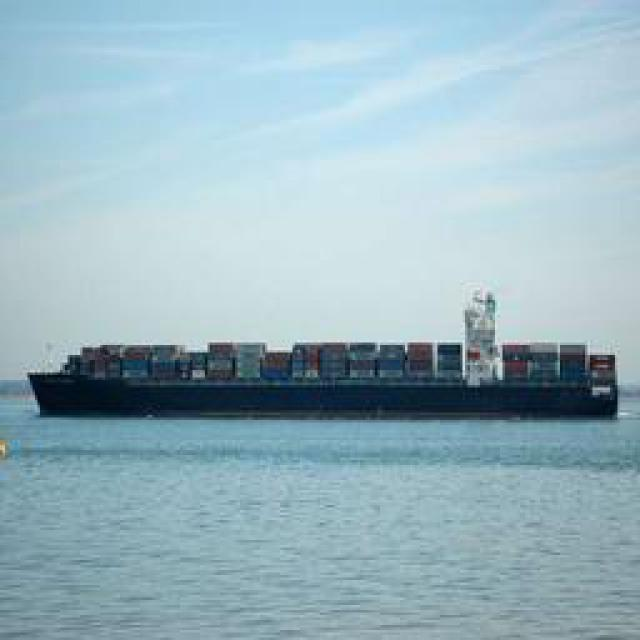Ship: (25, 304, 625, 424)
